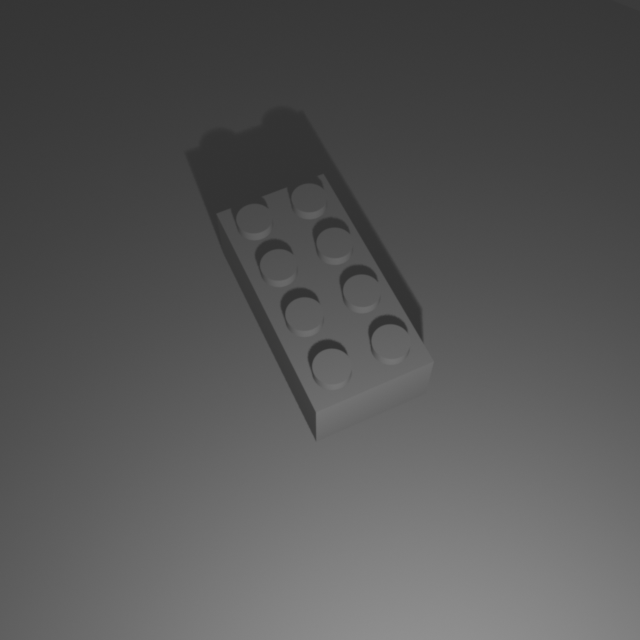lego_2x4: (215, 166, 435, 442)
